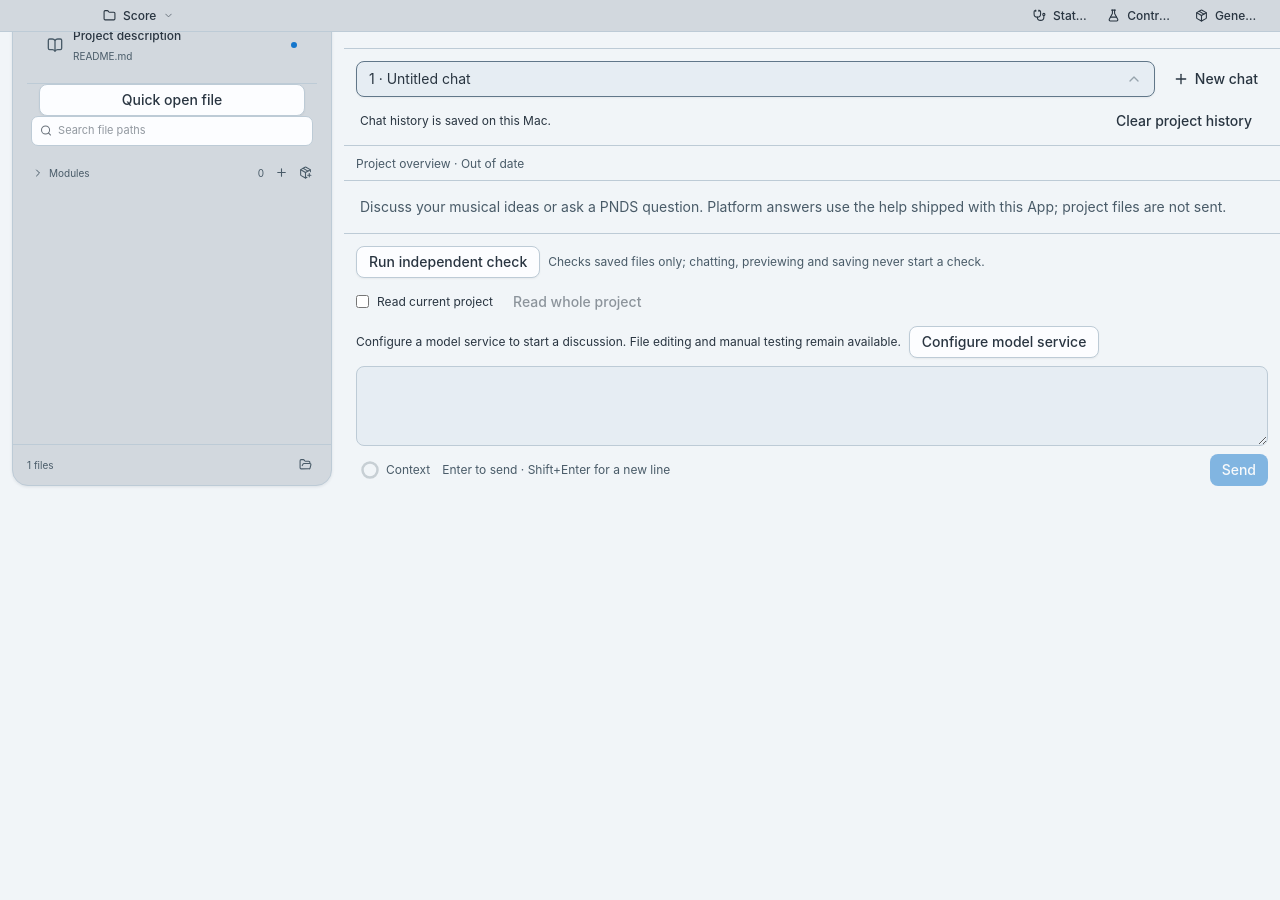
Test case: packages only the saved project at a chosen destination while preserving unsaved drafts and the runtime
Click the button "Generate .pnds": (1227, 16) [1188,4,1266,28]
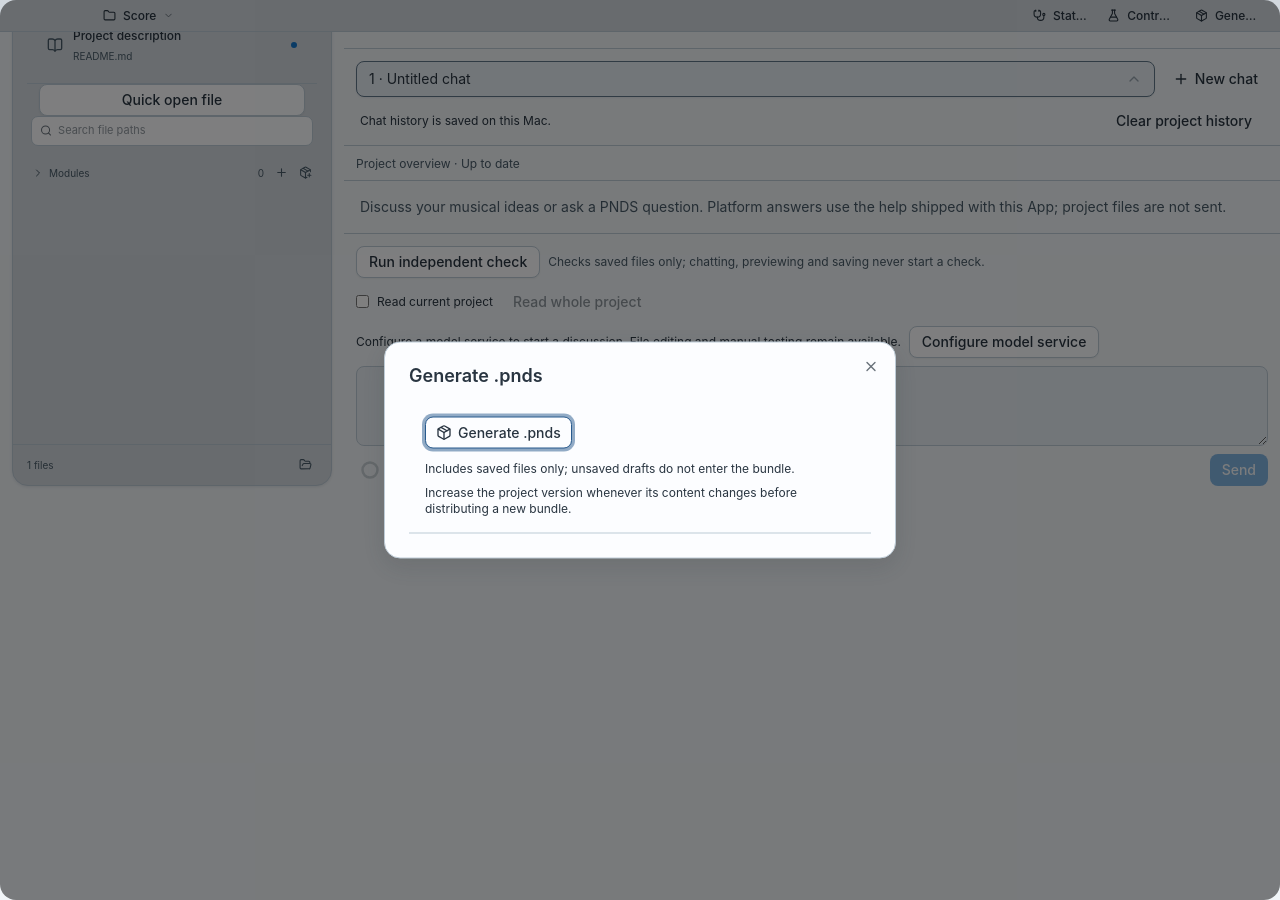
Click the button "Generate .pnds": (498, 432) [425,416,572,448]
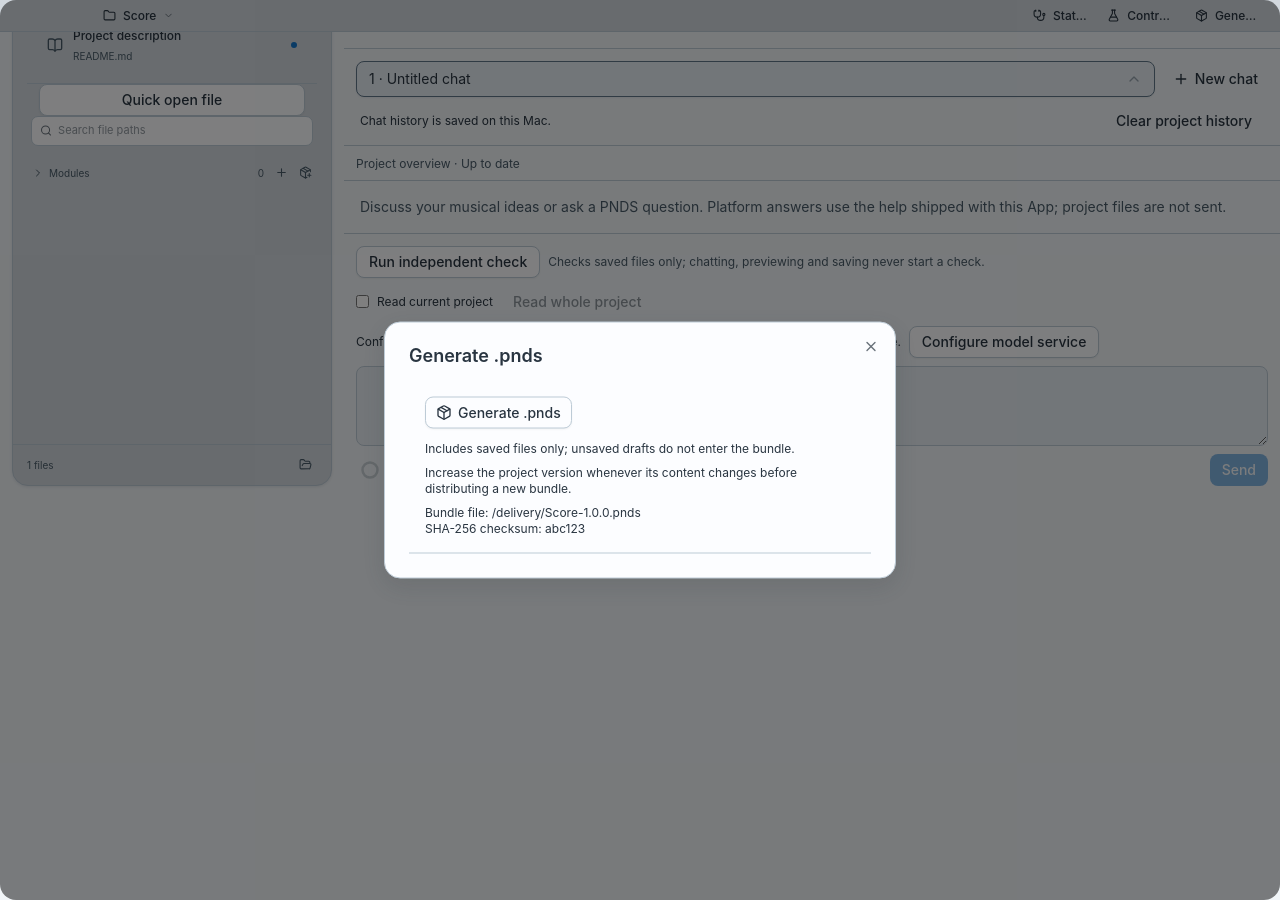
Result: the text "/delivery/Score-1.0.0.pnds" is shown at [492,504,641,520]
Result: the text "abc123" is shown at [545,520,585,536]
